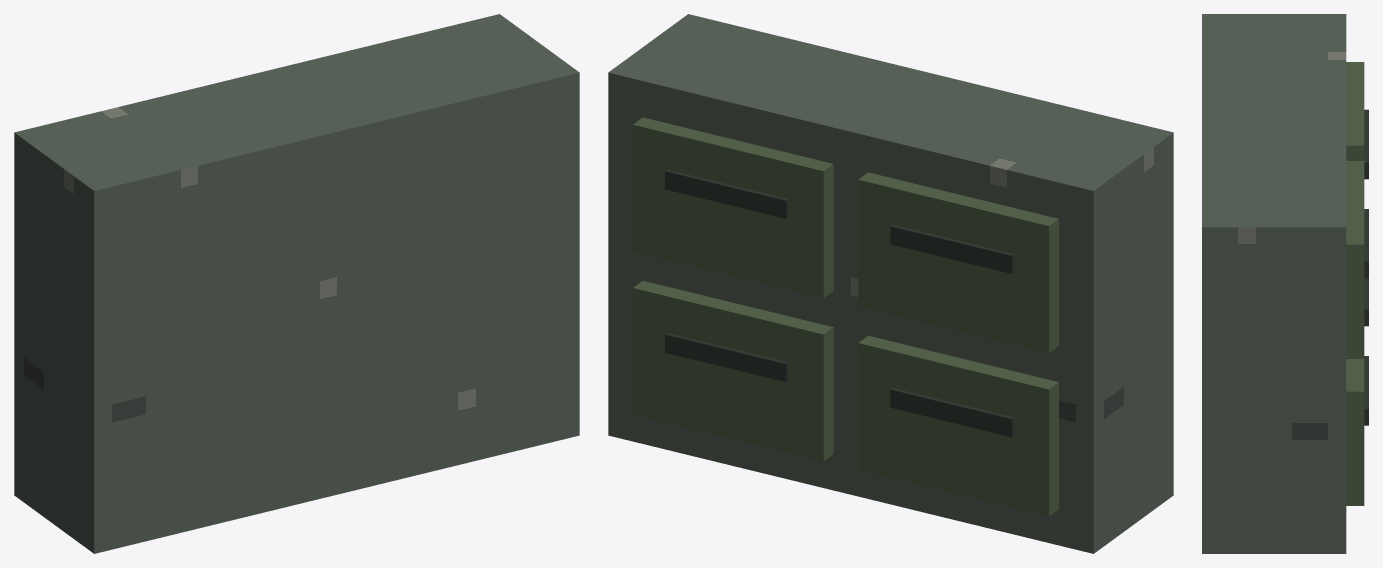
Rendered from mailboxes.gltf.
3 renders of one model, left to right at view 1: azimuth 30°, elevation 25°; view 2: azimuth 150°, elevation 25°; view 3: azimuth 270°, elevation 25°, orthographic. The views are drawn at different scales.
Visible parts, largest first — view 1: back; view 2: back, mailbox_door (×4), slot (×4); view 3: back, mailbox_door (×3), slot (×4).
Boxes of the visible parts, x1=… form: back: x1=14, y1=14, x2=579, y2=553; back: x1=608, y1=14, x2=1173, y2=553; mailbox_door (×4): x1=633, y1=117, x2=1058, y2=516; slot (×4): x1=665, y1=169, x2=1014, y2=437; back: x1=1202, y1=14, x2=1346, y2=553; mailbox_door (×3): x1=1346, y1=62, x2=1364, y2=505; slot (×4): x1=1364, y1=109, x2=1368, y2=425.
Bounding box in the file's own units: 1.75 × 1.25 × 0.5781.
3 materials, 3 textured.
